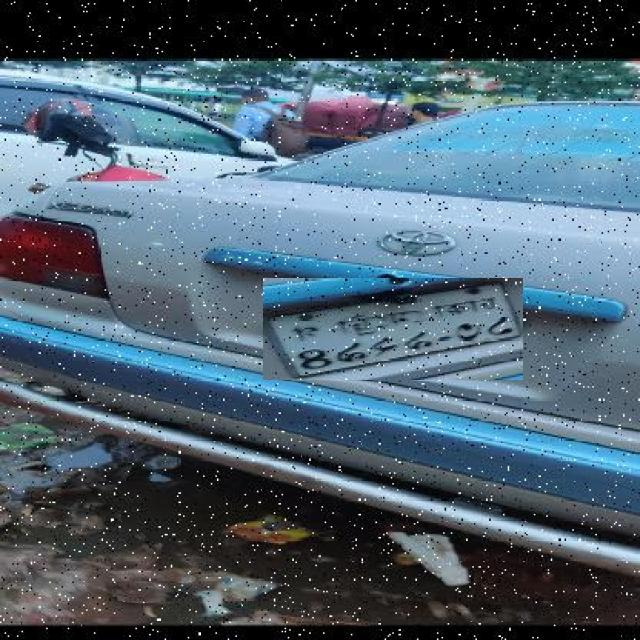numberplate: (263, 278, 523, 380)
